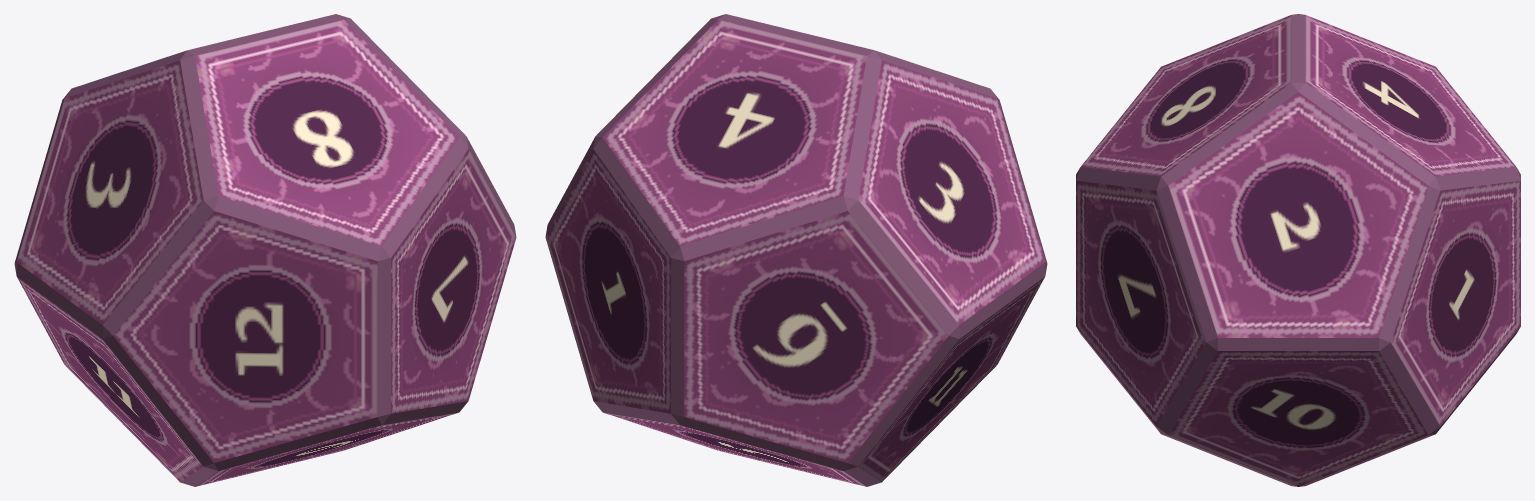
The picture shows the model from 3 angles, left to right: view 1: azimuth 30°, elevation 25°; view 2: azimuth 150°, elevation 25°; view 3: azimuth 270°, elevation 25°; orthographic projection. The views are drawn at different scales.
Bounding box in the file's own units: 165 × 165 × 165.
1 material, 1 textured.
